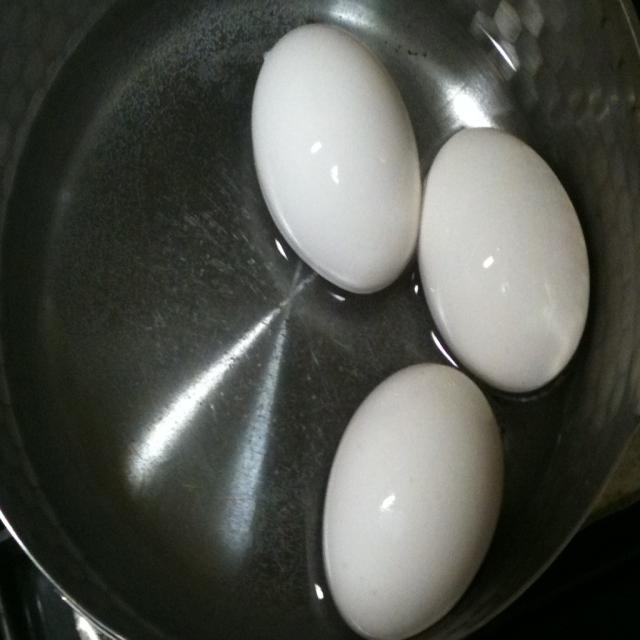Egg: (319, 362, 506, 640), (250, 20, 416, 298), (416, 127, 590, 391)
